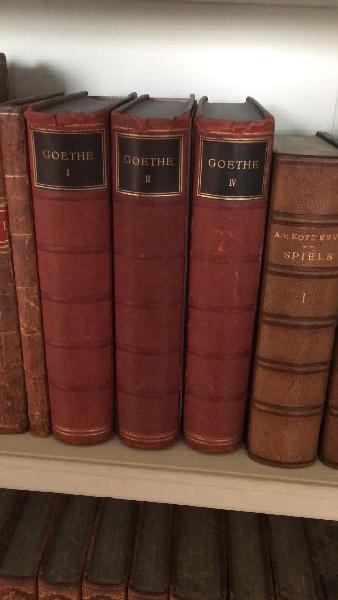Aa6-10: (3, 95, 49, 439)
Aa6-11_13: (19, 104, 262, 457)
